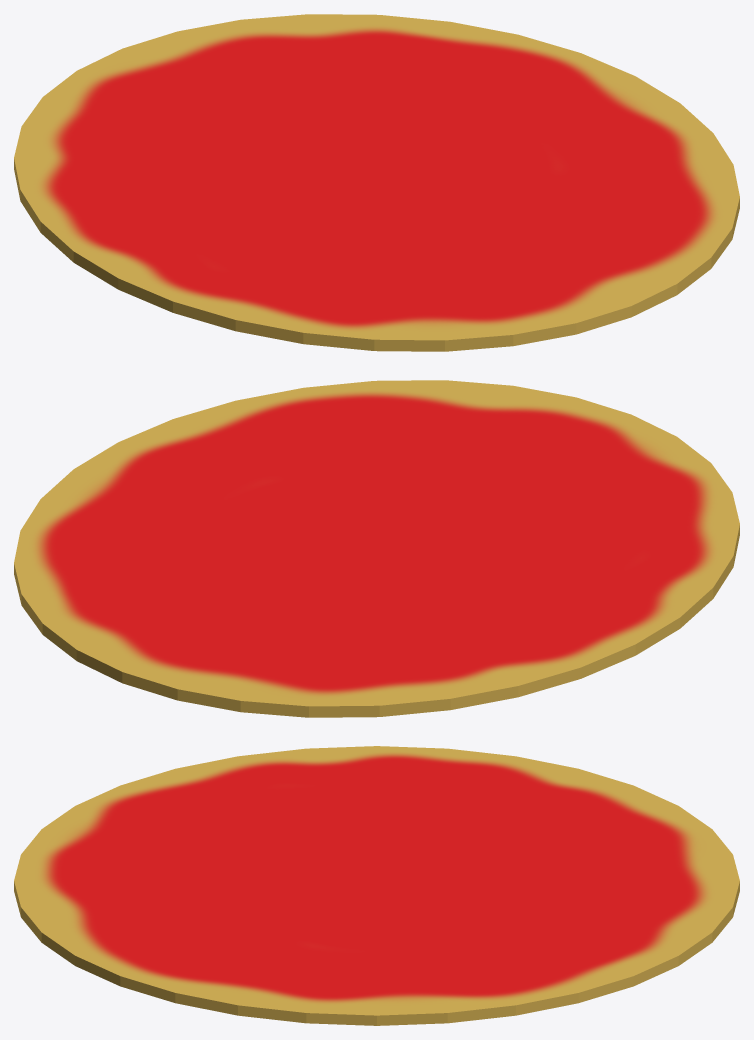
The model's file is pizzaSauce.fbx.
3 renders of one model, top to bottom at view 1: azimuth 30°, elevation 25°; view 2: azimuth 150°, elevation 25°; view 3: azimuth 270°, elevation 25°, orthographic. The views are drawn at different scales.
Visible parts, largest first — view 1: Cylinder; view 2: Cylinder; view 3: Cylinder.
Part boxes in pixels (bbox=[...]): Cylinder: bbox=[14, 14, 739, 351]; Cylinder: bbox=[14, 380, 739, 717]; Cylinder: bbox=[14, 746, 739, 1025].
Size of the model in its own units: 949 by 16.99 by 1081.
